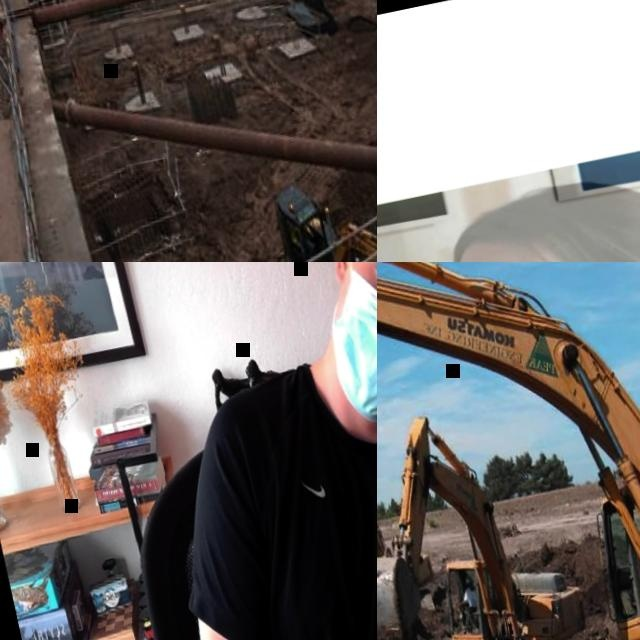Hardhat: (462, 575, 472, 584)
Mask: (317, 262, 377, 426)
NO-Hardhat: (447, 169, 640, 262)
NO-Mask: (466, 584, 474, 592)
NO-Safety Vest: (210, 354, 377, 640), (465, 587, 479, 609)
Person: (98, 262, 377, 640), (383, 149, 640, 262), (451, 574, 485, 629)
machinery: (377, 262, 640, 640), (377, 390, 604, 640), (259, 162, 377, 262)
